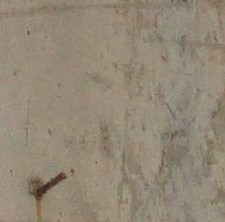Exposed reinforcement: (34, 171, 68, 201)
